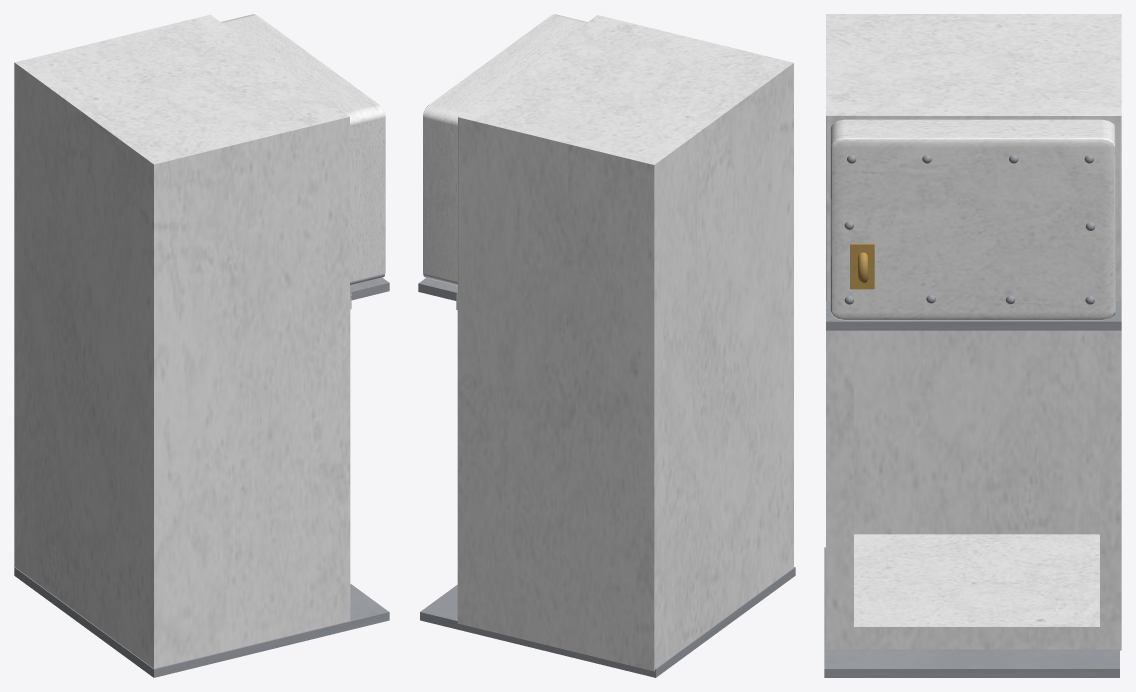
Rendered from refri.obj.
The picture shows the model from 3 angles, left to right: view 1: azimuth 30°, elevation 25°; view 2: azimuth 150°, elevation 25°; view 3: azimuth 270°, elevation 25°; orthographic projection. The views are drawn at different scales.
Parts seen in each view (by area): view 1: polySurface1193; view 2: polySurface1193; view 3: polySurface1193.
Boxes of the visible parts, left/top/right/bottom form: polySurface1193: left=14, top=14, right=389, bottom=677; polySurface1193: left=418, top=14, right=795, bottom=677; polySurface1193: left=824, top=14, right=1121, bottom=677.
Size of the model in its own units: 0.9495 by 1.89 by 0.9355.
Materials: 3 (3 with a texture image).
